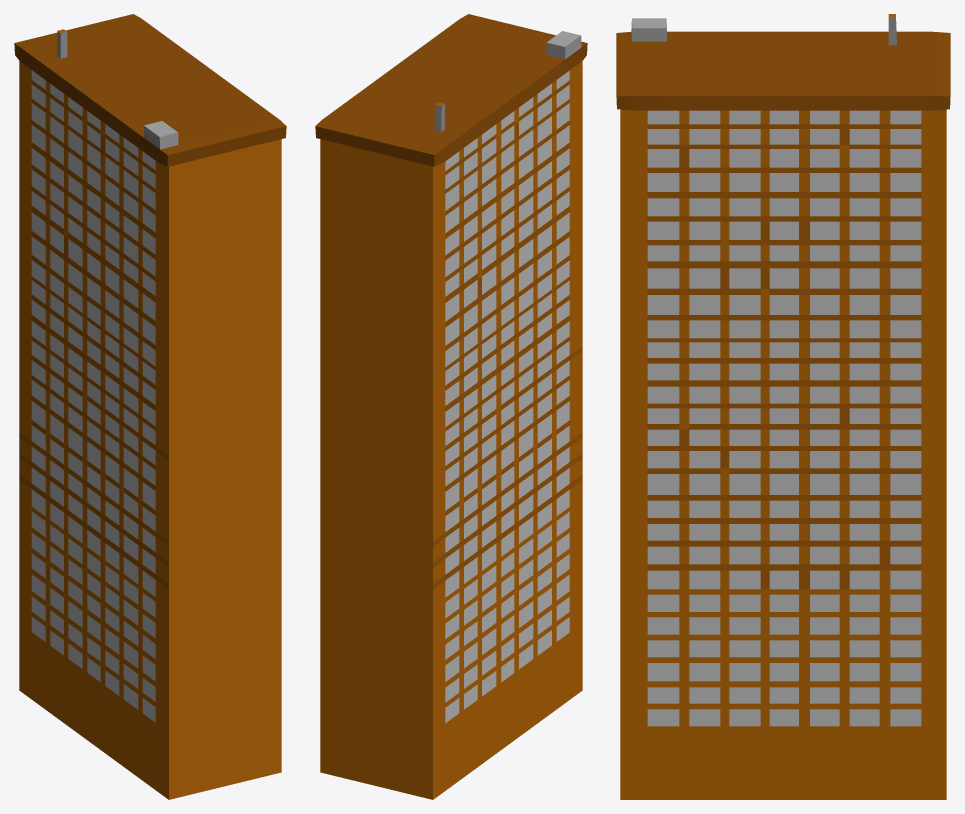
The model's file is GratteCiel.fbx.
3 renders of one model, left to right at view 1: azimuth 30°, elevation 25°; view 2: azimuth 150°, elevation 25°; view 3: azimuth 270°, elevation 25°, orthographic. The views are drawn at different scales.
Parts seen in each view (by area): view 1: pCube2; view 2: pCube2; view 3: pCube2.
Part boxes in pixels (<box>): pCube2: <box>14,14,286,799</box>; pCube2: <box>315,14,587,799</box>; pCube2: <box>616,14,950,799</box>.
Bounding box in the file's own units: 37.38 × 194 × 80.22.
